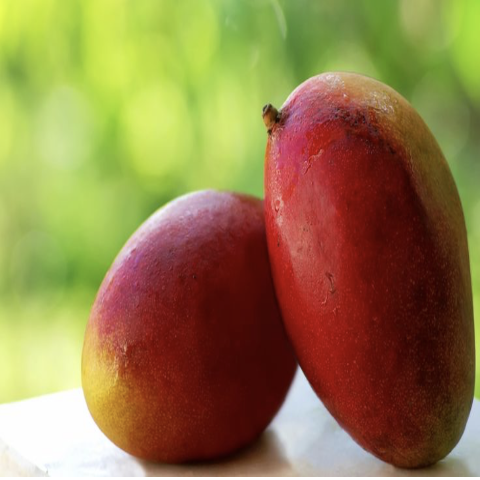mango: (237, 66, 480, 479), (59, 186, 329, 474)
